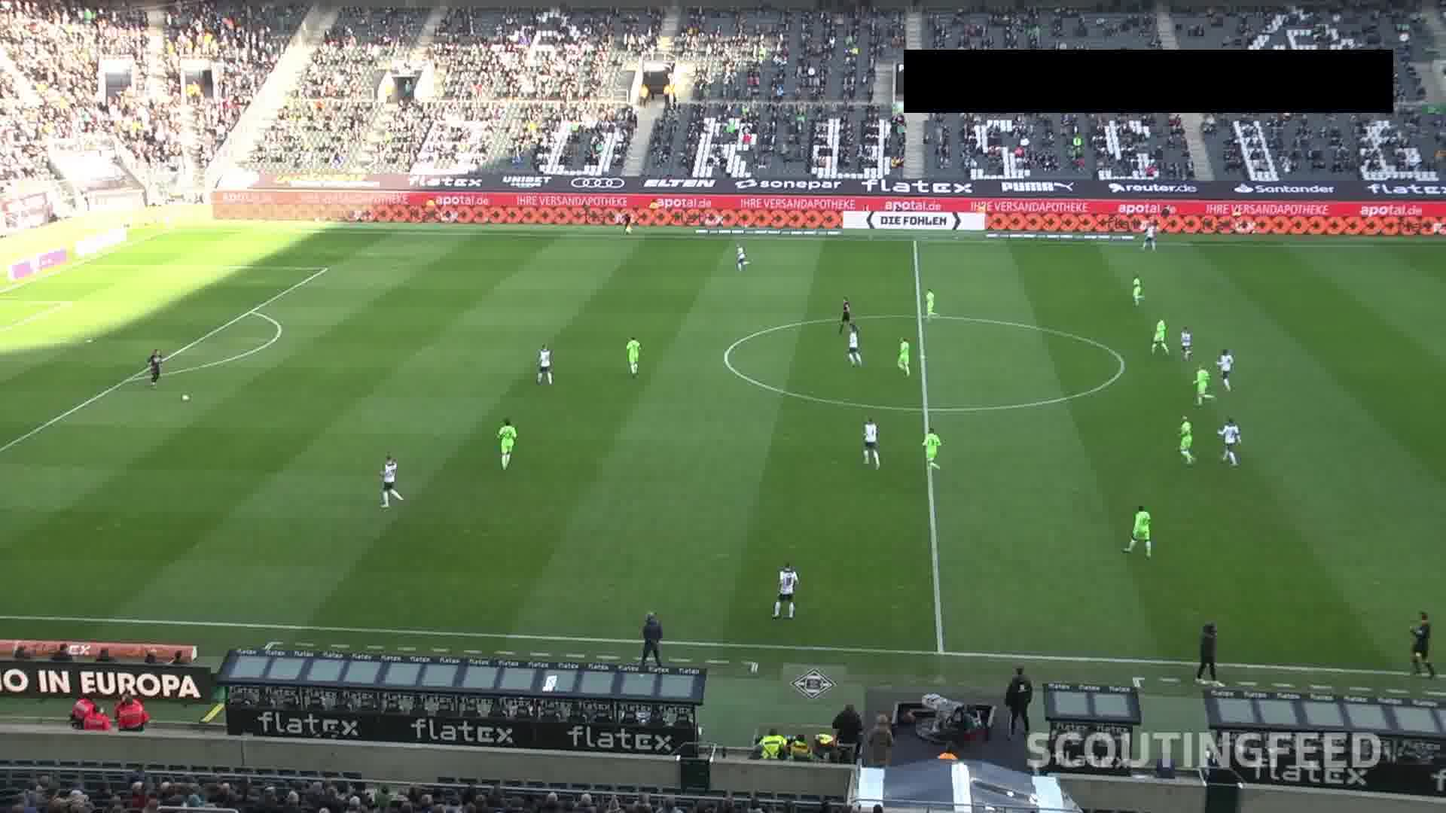ball: (177, 391, 193, 404)
coach_staff: (1192, 622, 1223, 675), (636, 610, 664, 666)
goalkeeper: (143, 349, 164, 391)
player: (1118, 499, 1156, 556), (1211, 414, 1249, 467), (855, 412, 886, 463), (771, 560, 798, 614), (1219, 344, 1246, 390), (379, 448, 398, 506), (1174, 413, 1196, 462), (919, 424, 943, 467), (1147, 312, 1170, 356), (1176, 319, 1199, 360), (1189, 359, 1209, 405), (500, 414, 515, 469), (729, 240, 752, 274), (896, 335, 916, 374), (535, 345, 555, 383), (626, 331, 641, 375), (1140, 226, 1166, 250), (1128, 270, 1145, 306), (920, 284, 939, 316), (845, 330, 861, 363)
referee: (1396, 610, 1435, 672), (832, 295, 859, 339), (621, 208, 639, 236)
